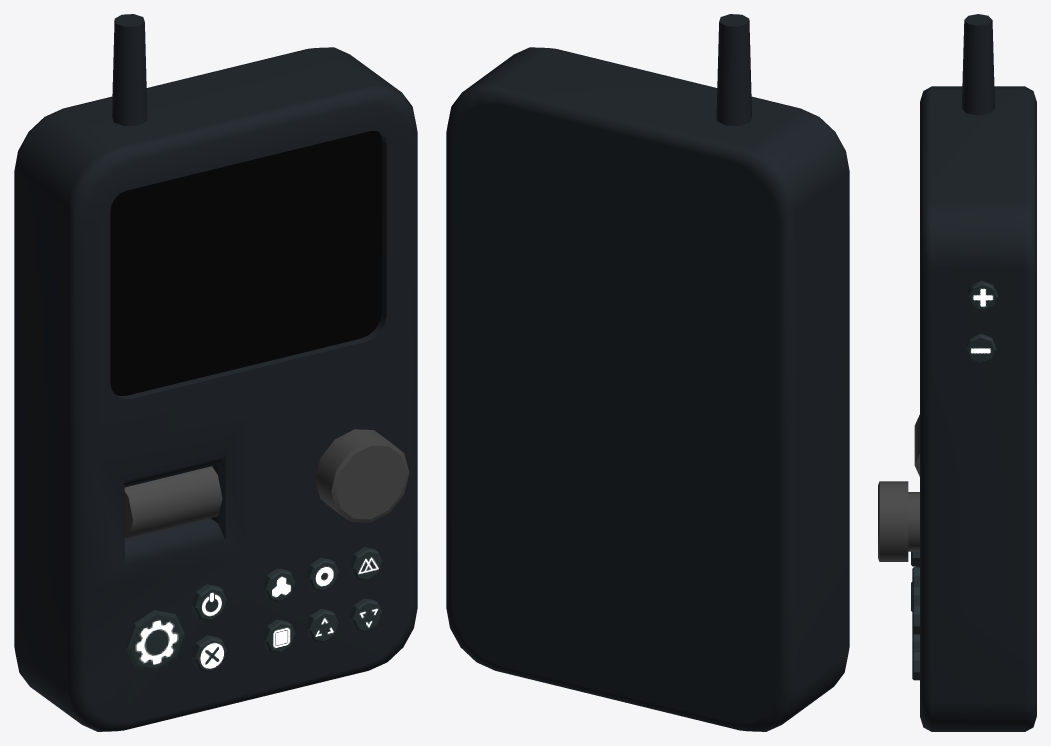
The model's file is TX_Woki_Sala_Comunicacion_V3.fbx.
3 renders of one model, left to right at view 1: azimuth 30°, elevation 25°; view 2: azimuth 150°, elevation 25°; view 3: azimuth 270°, elevation 25°, orthographic. The views are drawn at different scales.
Visible parts, largest first — view 1: Woki_geo; view 2: Woki_geo; view 3: Woki_geo.
Boxes of the visible parts, bbox=[...] form: Woki_geo: bbox=[14, 14, 417, 731]; Woki_geo: bbox=[446, 14, 849, 731]; Woki_geo: bbox=[878, 14, 1036, 731].
Size of the model in its own units: 6.95 by 12.74 by 2.99.
1 material, 1 textured.
